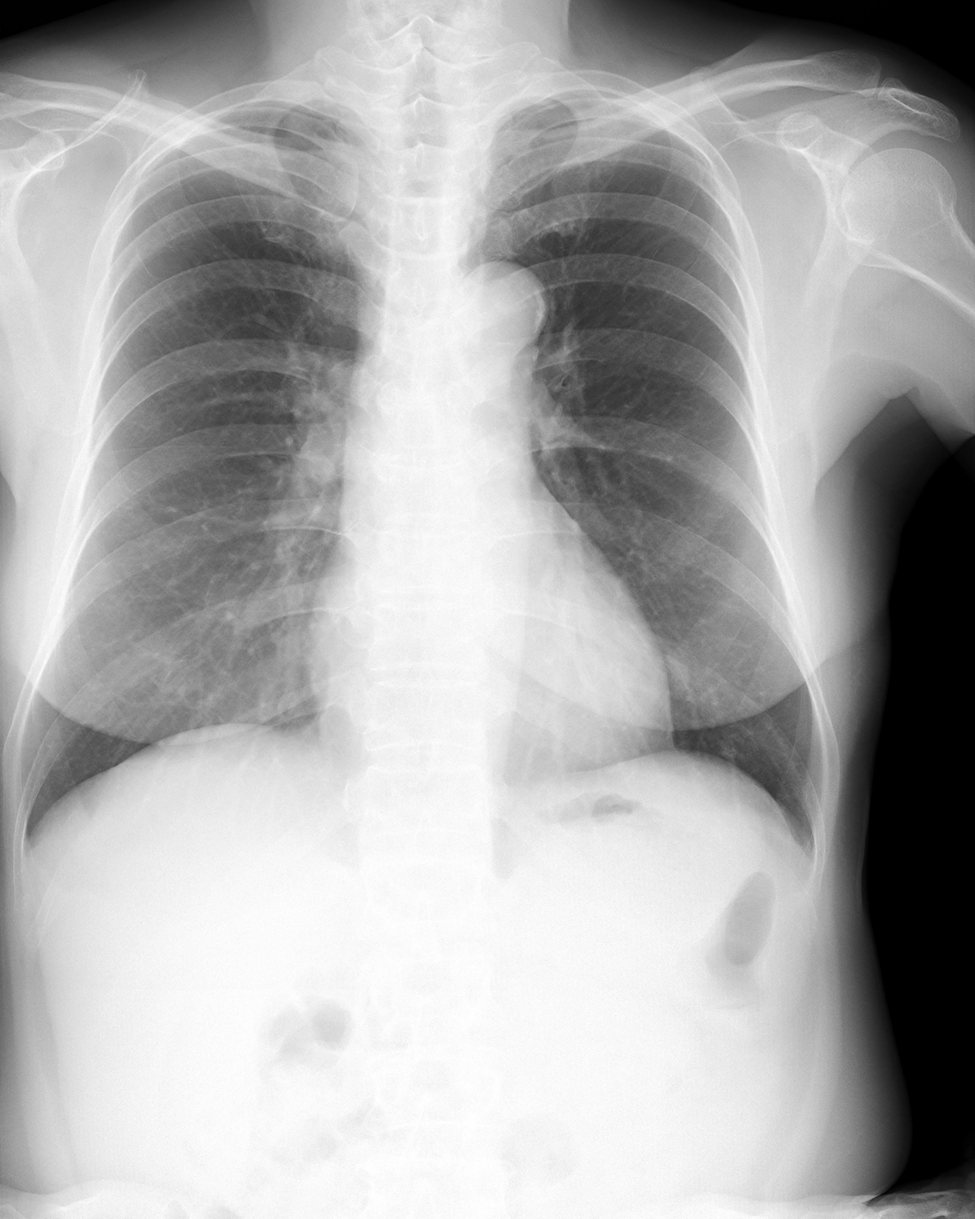Aortic enlargement: (446, 259, 553, 429)
